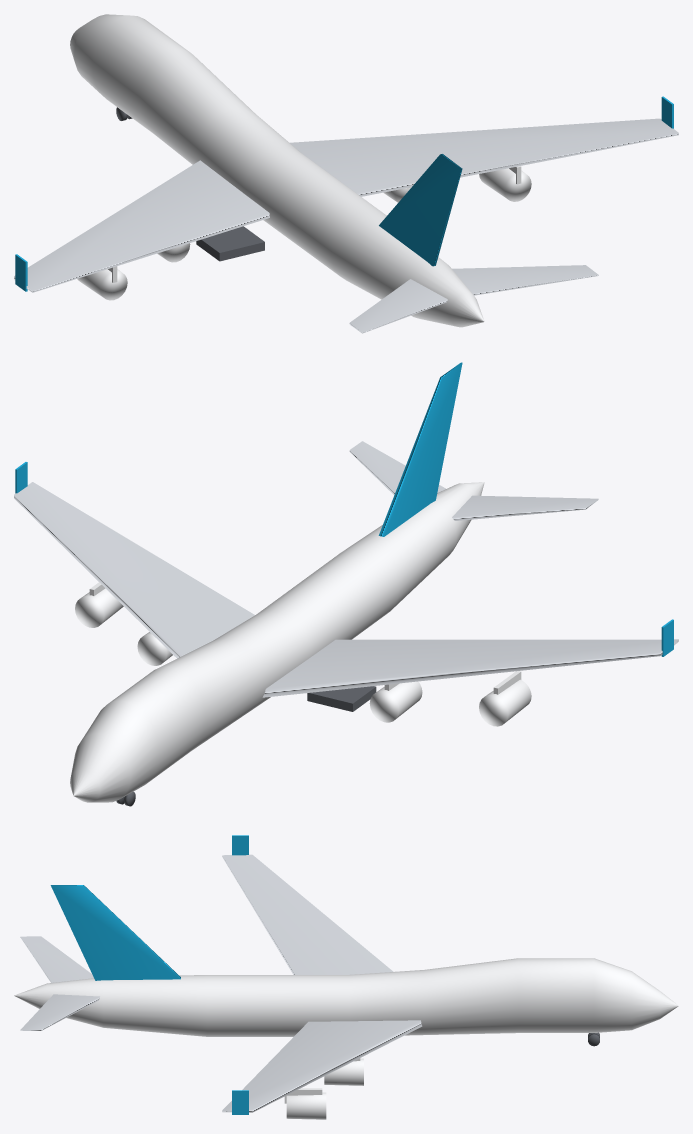
3 renders of one model, top to bottom at view 1: azimuth 30°, elevation 25°; view 2: azimuth 150°, elevation 25°; view 3: azimuth 270°, elevation 25°, orthographic. The views are drawn at different scales.
Visible parts, largest first — view 1: Fuselage, Wings, Tail, Engines, Gear; view 2: Fuselage, Wings, Tail, Engines, Gear; view 3: Fuselage, Wings, Tail, Engines.
Boxes of the visible parts, bbox=[...] form: Fuselage: bbox=[70, 14, 484, 327]; Wings: bbox=[14, 96, 678, 292]; Tail: bbox=[349, 154, 598, 333]; Engines: bbox=[77, 166, 531, 300]; Gear: bbox=[116, 107, 264, 261]; Fuselage: bbox=[70, 482, 484, 802]; Wings: bbox=[14, 462, 678, 697]; Tail: bbox=[349, 362, 598, 536]; Engines: bbox=[75, 582, 531, 726]; Gear: bbox=[116, 686, 376, 806]; Fuselage: bbox=[14, 958, 678, 1036]; Wings: bbox=[222, 835, 422, 1114]; Tail: bbox=[20, 885, 180, 1030]; Engines: bbox=[284, 1058, 363, 1119].
Size of the model in its own units: 64.18 by 18.55 by 70.5.
